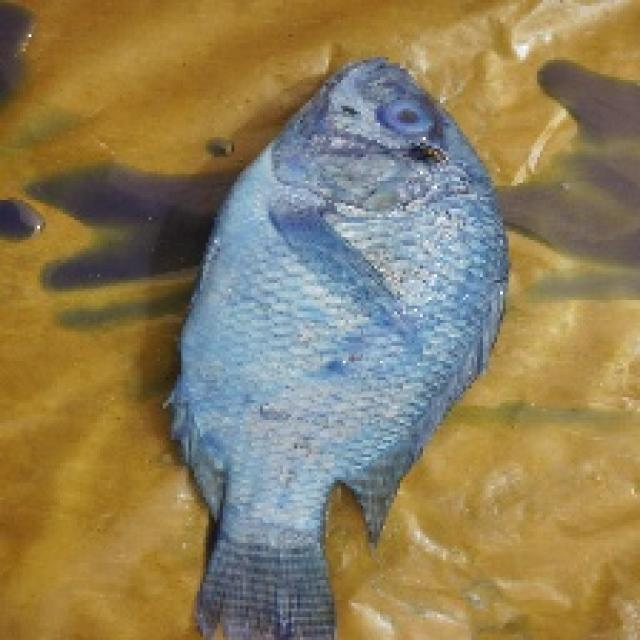Non-Fresh: (178, 38, 514, 580)
